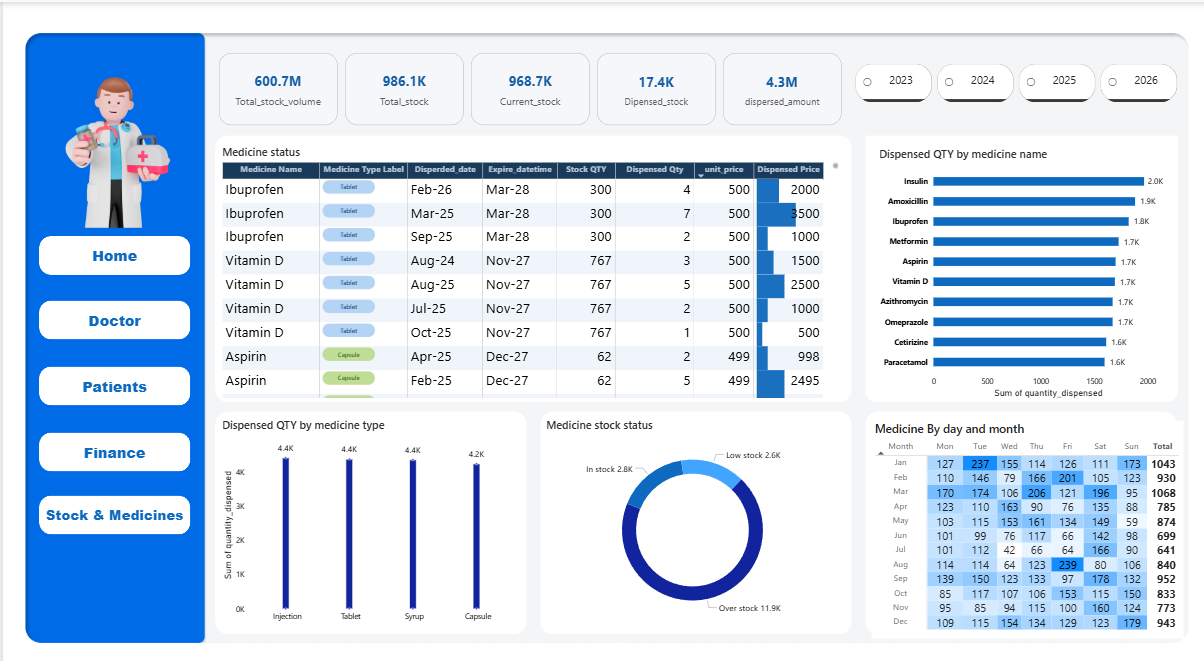

What the dashboard file says about the page in this screenshot:
{"tool":"powerbi","page":{"name":"Stock & Medicine","canvas":[1920,1080],"ordinal":4},"visuals":[{"type":"card","fields":{"Values":["stock meaasures.Total_stock_volume"]},"box":[343.6,81.1,188.5,114.5],"z":0},{"type":"card","fields":{"Values":["stock meaasures.Total_stock"]},"box":[544,81.7,188.5,114.5],"z":1000},{"type":"card","fields":{"Values":["stock meaasures.dispersed_amount"]},"box":[1145.2,81.7,188.5,114.5],"z":2000},{"type":"card","fields":{"Values":["stock meaasures.Current_stock"]},"box":[744.4,81.7,188.5,114.5],"z":3000},{"type":"actionButton","box":[1574.7,66.8,52.5,52.5],"z":4000},{"type":"pivotTable","title":"Medicine By day and month","fields":{"Columns":["Calender_table.Day"],"Rows":["Calender_table.Month"],"Values":["Sum(medicine_dispensing.quantity_dispensed)"]},"box":[1381.4,665.7,495,346],"z":5000},{"type":"card","fields":{"Values":["stock meaasures.Dipensed_qty"]},"box":[944.8,81.7,188.5,114.5],"z":6000},{"type":"image","box":[45.3,52.5,262.5,350.7],"z":9000},{"type":"lineClusteredColumnComboChart","title":"Dispensed QTY  by medicine type","fields":{"Category":["medicine_dispensing.medicines.medicine_type"],"Y":["Sum(medicine_dispensing.quantity_dispensed)"]},"box":[343.6,660.9,474.8,334],"z":10000},{"type":"tableEx","title":"Medicine status","fields":{"Values":["medicine_dispensing.medicines.medicine_name","stock meaasures.Medicine Type Label","medicine_dispensing.Disperded_date","medicine_dispensing.expire_datetime","medicine_dispensing.medicines.stock_quantity","Sum(medicine_dispensing.quantity_dispensed)","medicine_dispensing.unit_price","Sum(medicine_dispensing.total_price)"]},"box":[343.6,226.7,990.2,408],"z":11000},{"type":"donutChart","title":"Medicine stock status","fields":{"Category":["medicine_dispensing.stock_status"],"Y":["Sum(medicine_dispensing.quantity_dispensed)"]},"box":[858.9,660.9,474.8,334],"z":12000},{"type":"barChart","title":"Dispensed QTY by medicine name","fields":{"Category":["medicine_dispensing.medicines.medicine_name"],"Y":["Sum(medicine_dispensing.quantity_dispensed)"]},"box":[1388.6,229,474.8,405.6],"z":13000},{"type":"shape","box":[57.3,474.6,241,62],"z":13001},{"type":"shape","box":[57.3,579.6,241,62],"z":13002},{"type":"shape","box":[57.3,684.6,241,62],"z":13003},{"type":"shape","box":[57.3,784.8,241,62],"z":13004},{"type":"actionButton","box":[57.3,474.6,241,62],"z":13005},{"type":"actionButton","box":[57.3,579.6,241,62],"z":13006},{"type":"actionButton","box":[57.3,684.6,241,62],"z":13007},{"type":"actionButton","box":[57.3,784.8,241,62],"z":13008},{"type":"shape","box":[57.3,371.4,241,62],"z":13009},{"type":"actionButton","box":[57.3,369.1,241,62],"z":13010},{"type":"advancedSlicerVisual","fields":{"Values":["Calender_table.Month"]},"box":[1381.4,66.8,477.2,128.8],"z":13011}]}

Visuals, with their boxes in screenshot pixels (x1, y1, x2, y2), scaled from the page's 1920x1080 canvas onto the 1204x661 screenshot:
card - stock meaasures.Total_stock_volume: rect(215, 50, 334, 120)
card - stock meaasures.Total_stock: rect(341, 50, 459, 120)
card - stock meaasures.dispersed_amount: rect(718, 50, 836, 120)
card - stock meaasures.Current_stock: rect(467, 50, 585, 120)
actionButton: rect(987, 41, 1020, 73)
"Medicine By day and month" pivotTable: rect(866, 407, 1177, 619)
card - stock meaasures.Dipensed_qty: rect(592, 50, 711, 120)
image: rect(28, 32, 193, 247)
"Dispensed QTY  by medicine type" lineClusteredColumnComboChart: rect(215, 404, 513, 609)
"Medicine status" tableEx: rect(215, 139, 836, 388)
"Medicine stock status" donutChart: rect(539, 404, 836, 609)
"Dispensed QTY by medicine name" barChart: rect(871, 140, 1169, 388)
shape: rect(36, 290, 187, 328)
shape: rect(36, 355, 187, 393)
shape: rect(36, 419, 187, 457)
shape: rect(36, 480, 187, 518)
actionButton: rect(36, 290, 187, 328)
actionButton: rect(36, 355, 187, 393)
actionButton: rect(36, 419, 187, 457)
actionButton: rect(36, 480, 187, 518)
shape: rect(36, 227, 187, 265)
actionButton: rect(36, 226, 187, 264)
advancedSlicerVisual - Calender_table.Month: rect(866, 41, 1165, 120)
